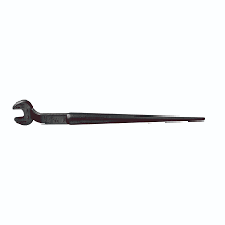Wrench: (1, 93, 217, 142)
